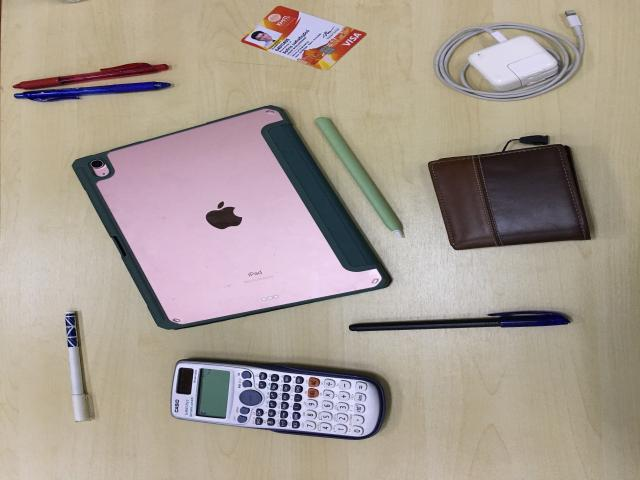Pen: (349, 310, 572, 334), (13, 63, 168, 89), (63, 310, 98, 423), (13, 82, 172, 101)
Wallet: (428, 146, 596, 251)
